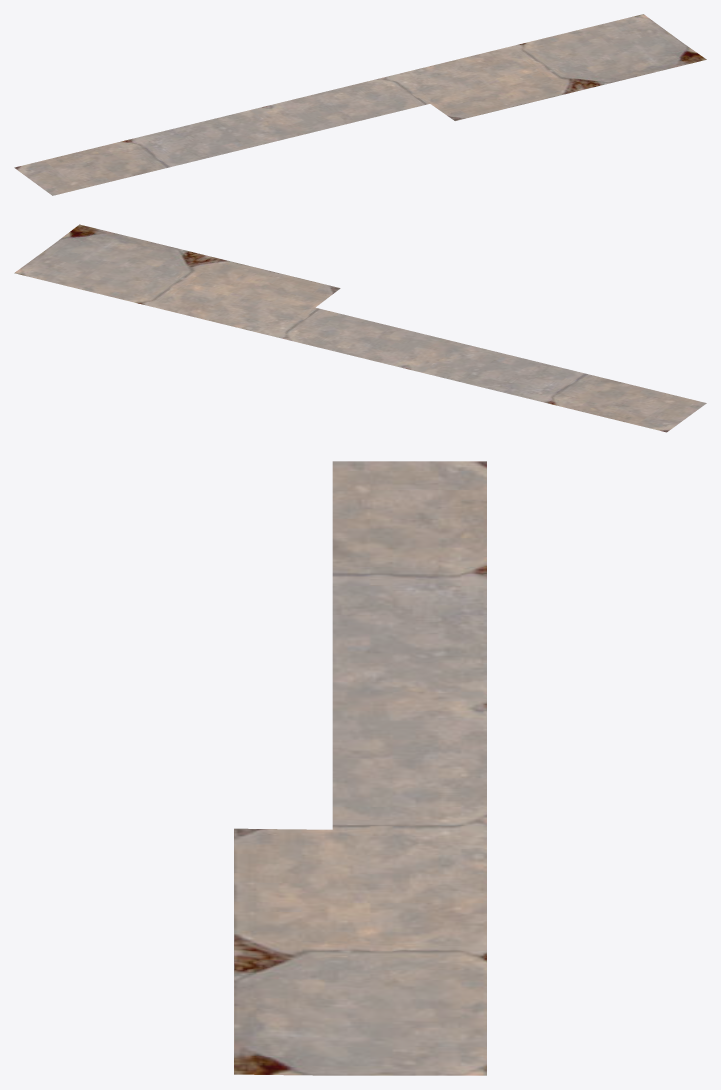
File: scenery_ParkingLotPlane.glb
3 views of the same model, one above another, from view 1: azimuth 30°, elevation 25°; view 2: azimuth 150°, elevation 25°; view 3: azimuth 270°, elevation 25° (orthographic). The views are drawn at different scales.
Parts seen in each view (by area): view 1: Plane.020; view 2: Plane.020; view 3: Plane.020.
Part boxes in pixels (<box>): Plane.020: <box>14,14,706,195</box>; Plane.020: <box>14,224,706,432</box>; Plane.020: <box>234,461,486,1075</box>.
Size of the model in its own units: 56.19 by 0.0536 by 9.78.
1 material, 1 textured.
